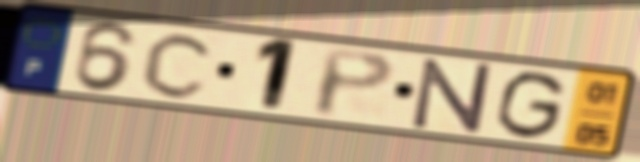1: (249, 36, 299, 118)
6: (71, 19, 139, 95)
C: (138, 30, 220, 101)
G: (492, 69, 570, 143)
N: (409, 57, 495, 136)
P: (311, 46, 399, 121)
